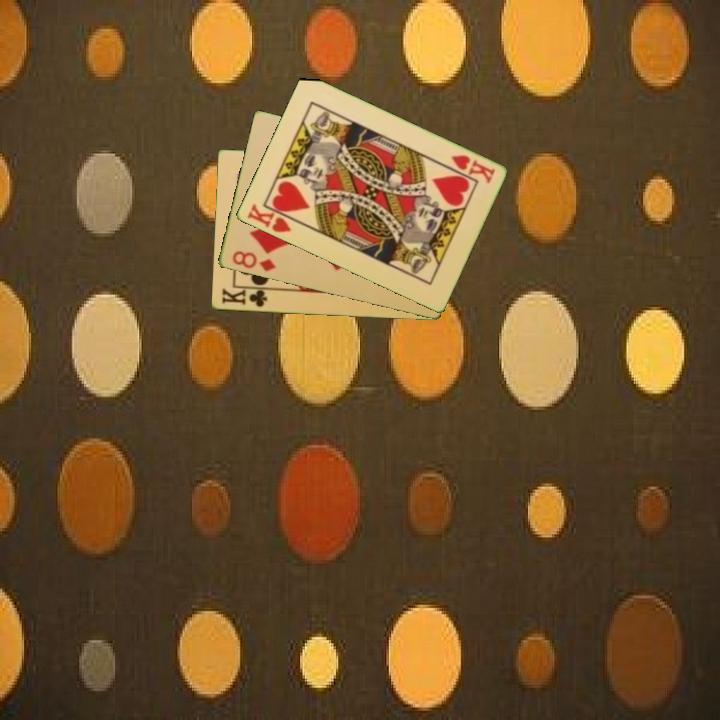8d: (228, 247, 278, 274)
Kc: (218, 285, 273, 310)
Kh: (243, 200, 300, 236), (447, 151, 498, 186)
